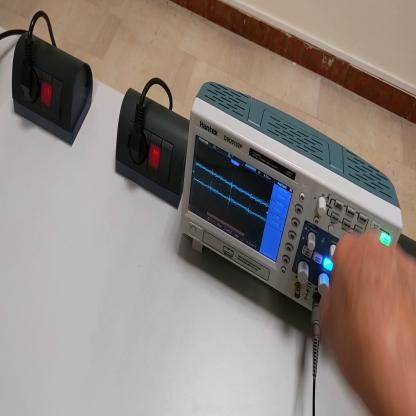hand: (322, 228, 416, 401)
oscilloscope: (181, 80, 404, 322)
socket: (115, 86, 191, 211), (10, 39, 95, 145)
